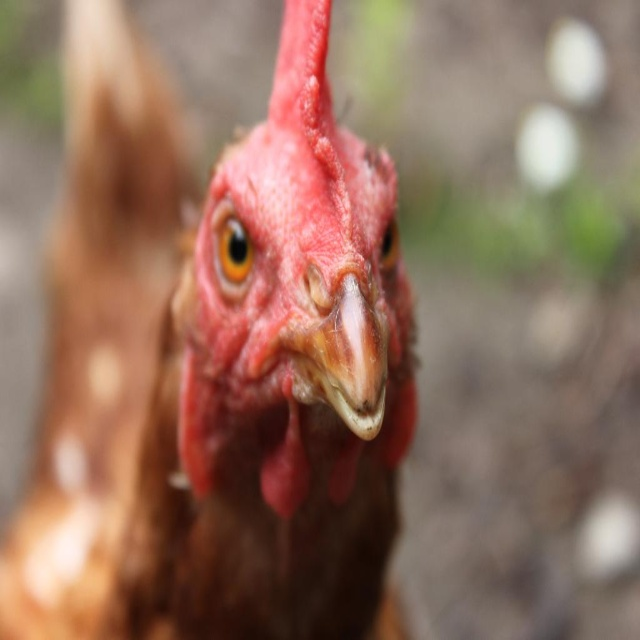Chicken: (0, 0, 425, 640)
